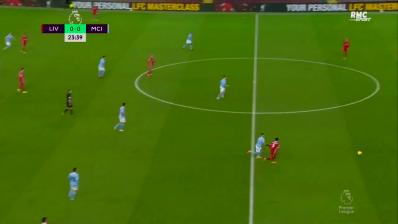football: (356, 149, 364, 157)
player: (246, 131, 267, 161), (112, 100, 129, 134), (263, 137, 283, 165), (66, 166, 81, 203), (15, 66, 30, 96), (215, 74, 230, 102), (96, 55, 111, 81), (340, 36, 352, 63), (181, 31, 196, 51), (146, 54, 158, 78), (19, 32, 31, 56), (2, 32, 15, 54), (90, 3, 100, 23)
referee: (60, 89, 78, 119)
